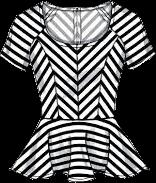Bodice: (10, 1, 148, 182)
Neckline: (42, 1, 112, 45), (39, 116, 114, 120)
Sleeve: (1, 3, 39, 71), (115, 3, 154, 66)
Sleeveline: (112, 3, 127, 60), (29, 2, 40, 61)
Waistline: (9, 168, 149, 182)
